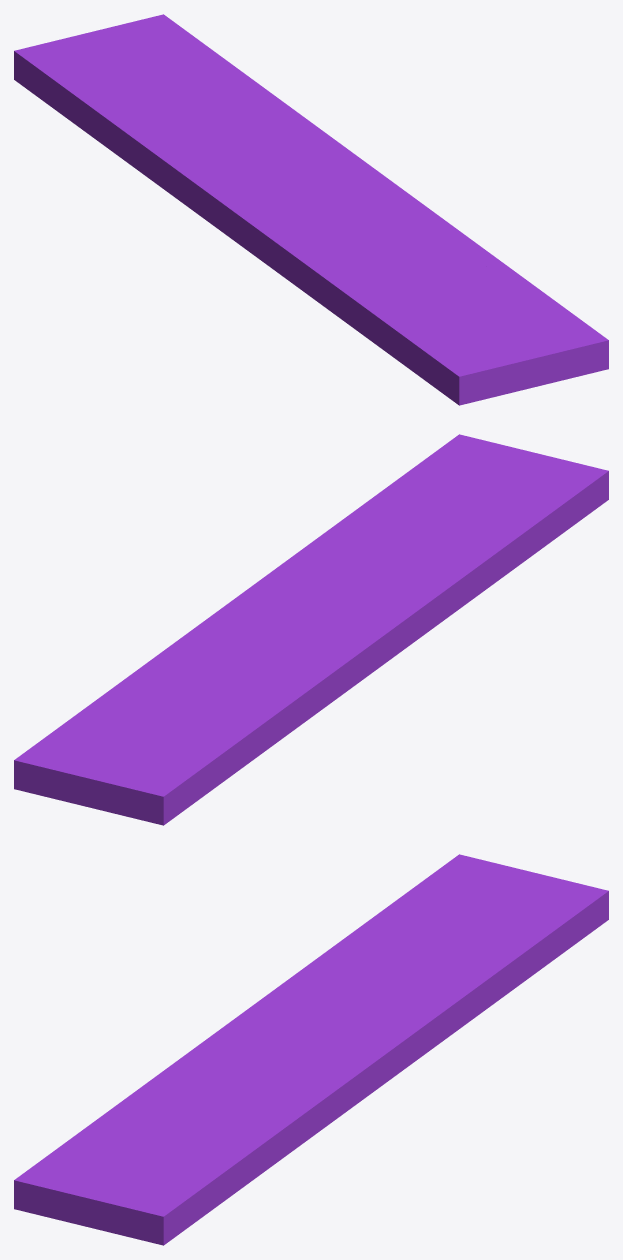
The model's file is StairsStep_207_chunks.fbx.
3 views of the same model, one above another, from view 1: azimuth 30°, elevation 25°; view 2: azimuth 150°, elevation 25°; view 3: azimuth 330°, elevation 25° (orthographic).
Visible parts, largest first — view 1: StairsStep_207_2, StairsStep_207_0, StairsStep_207_3; view 2: StairsStep_207_0, StairsStep_207_2, StairsStep_207_3; view 3: StairsStep_207_0, StairsStep_207_2, StairsStep_207_3, StairsStep_207_1.
Boxes of the visible parts, bbox=[...] form: StairsStep_207_2: bbox=[229, 199, 608, 405]; StairsStep_207_0: bbox=[14, 14, 332, 236]; StairsStep_207_3: bbox=[304, 152, 528, 281]; StairsStep_207_0: bbox=[14, 616, 383, 825]; StairsStep_207_2: bbox=[322, 434, 608, 667]; StairsStep_207_3: bbox=[203, 492, 379, 626]; StairsStep_207_0: bbox=[240, 854, 608, 1034]; StairsStep_207_2: bbox=[14, 1015, 300, 1245]; StairsStep_207_3: bbox=[243, 1024, 419, 1162]; StairsStep_207_1: bbox=[367, 1015, 465, 1096].
Size of the model in its own units: 157 by 28.98 by 810.
